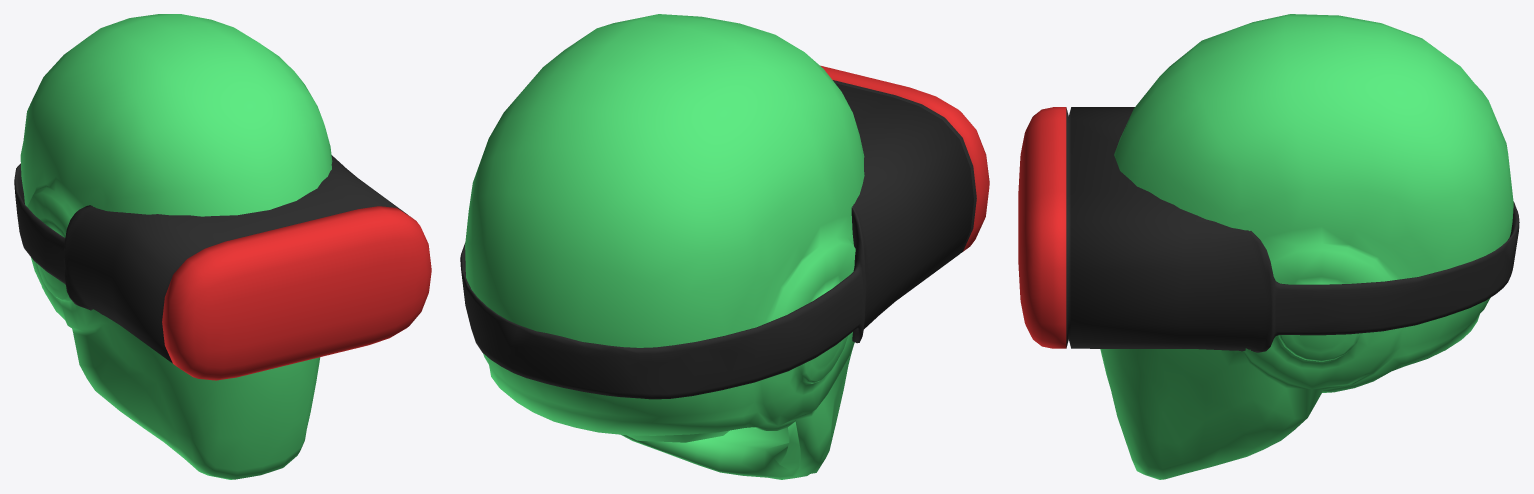
The model's file is headset.fbx.
The picture shows the model from 3 angles, left to right: view 1: azimuth 30°, elevation 25°; view 2: azimuth 150°, elevation 25°; view 3: azimuth 270°, elevation 25°; orthographic projection. The views are drawn at different scales.
Visible parts, largest first — view 1: Plane.001; view 2: Plane.001; view 3: Plane.001.
Boxes of the visible parts, bbox=[...] form: Plane.001: bbox=[14, 14, 431, 479]; Plane.001: bbox=[460, 14, 989, 479]; Plane.001: bbox=[1018, 14, 1519, 479].
Bounding box in the file's own units: 22.87 × 31.15 × 32.76.
